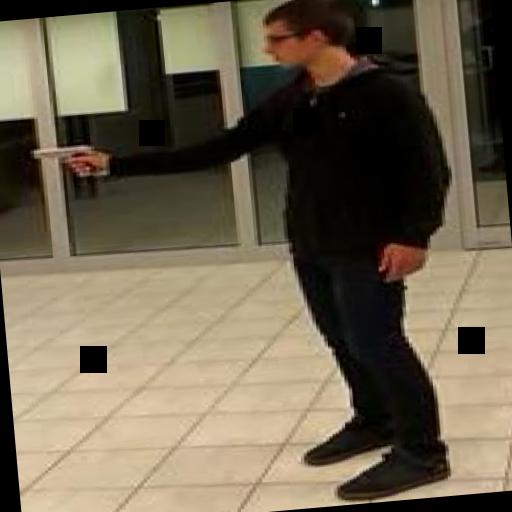Handgun: (27, 140, 107, 182)
